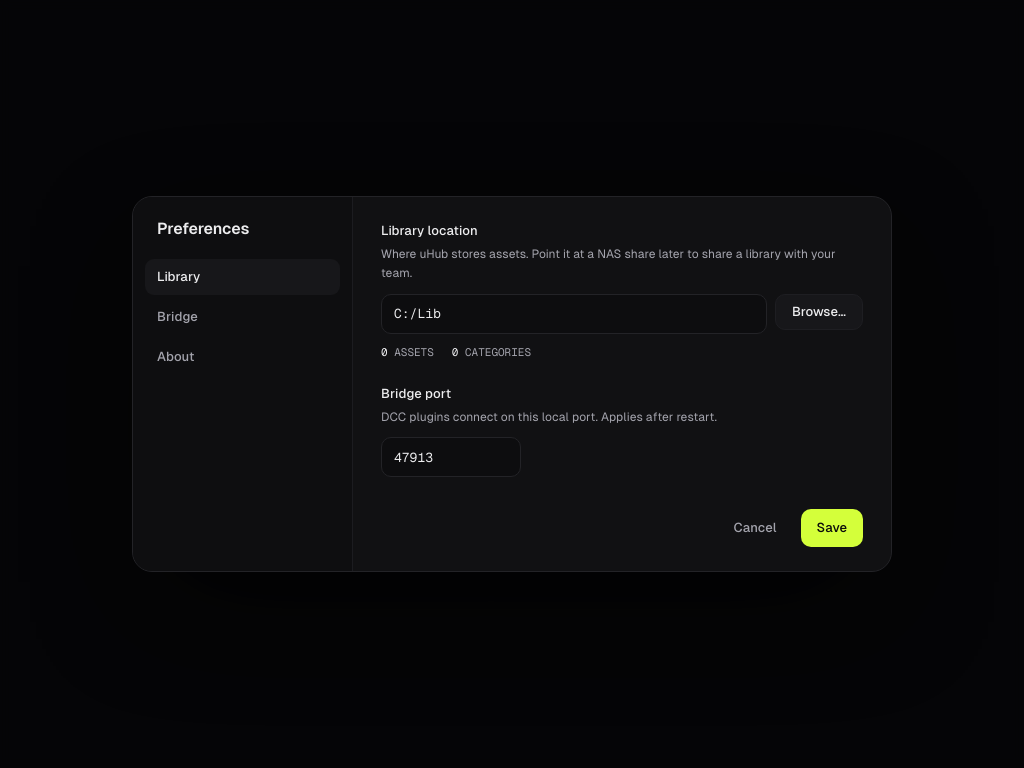
port out of range disables save
This screenshot has width=1024, height=768.
Expected: the field named "Library Root" is shown, [381, 294, 767, 334]
Replace the text in the number field labelled "Bridge port" with "80" at (451, 457), box [381, 437, 521, 477]
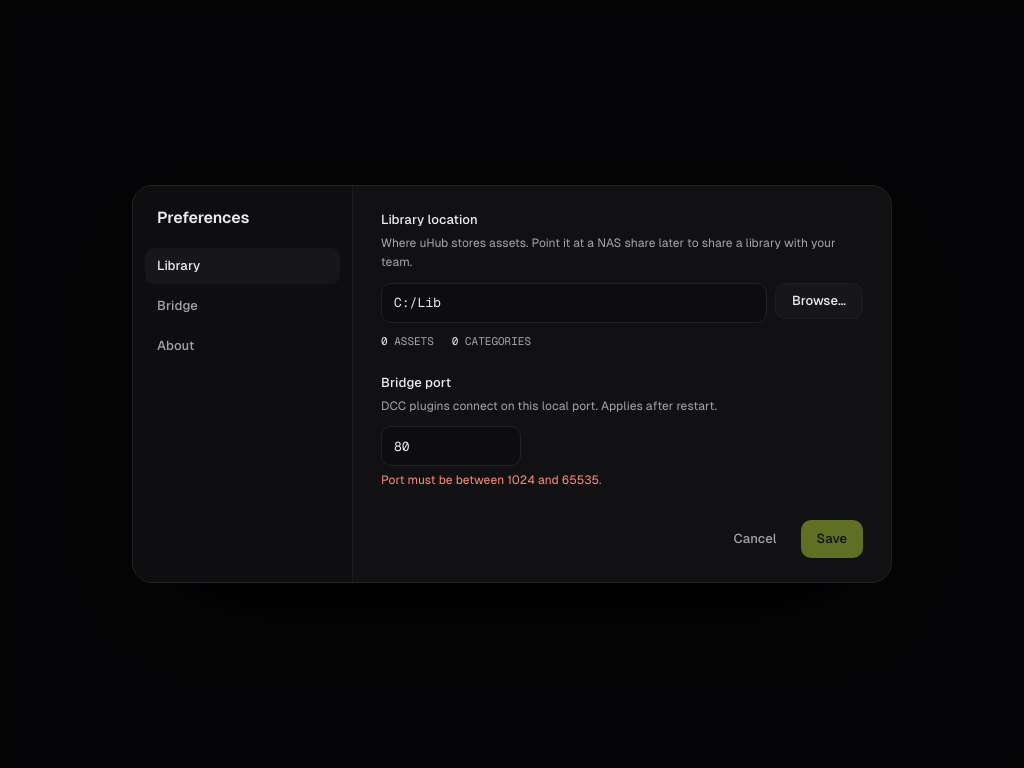
Expected: the button "Save" is disabled, [801, 520, 863, 558]
Replace the text in the number field labelled "Bridge port" with "47913" at (451, 446), box [381, 426, 521, 466]
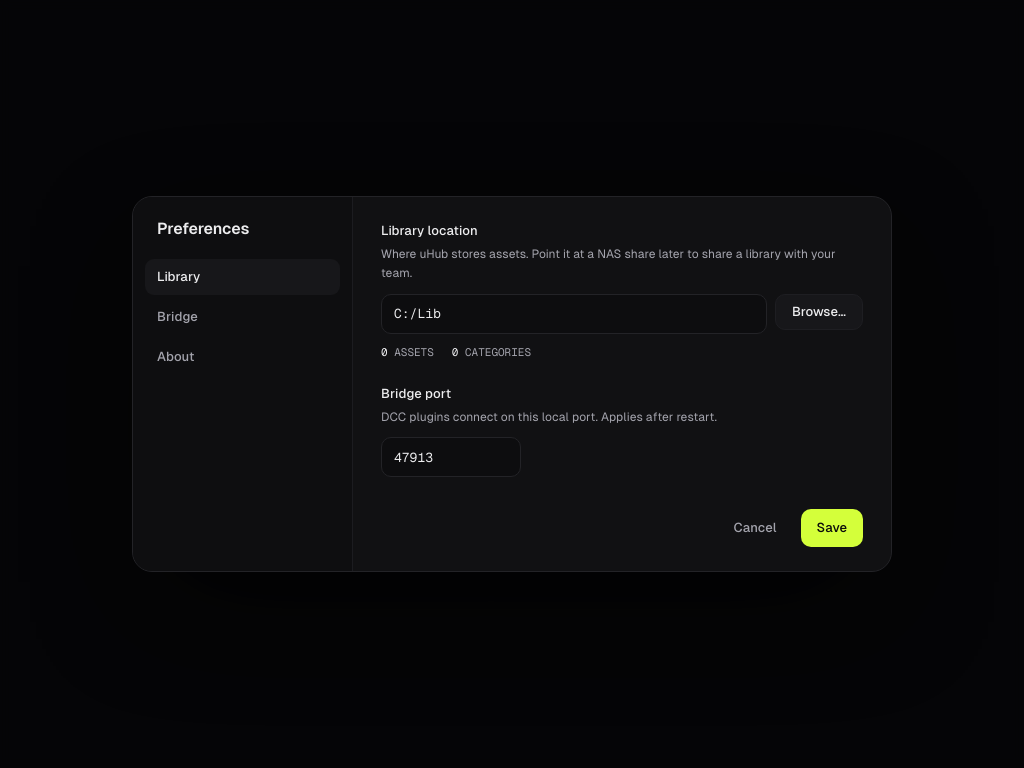
Expected: the button "Save" is enabled, [801, 509, 863, 547]
